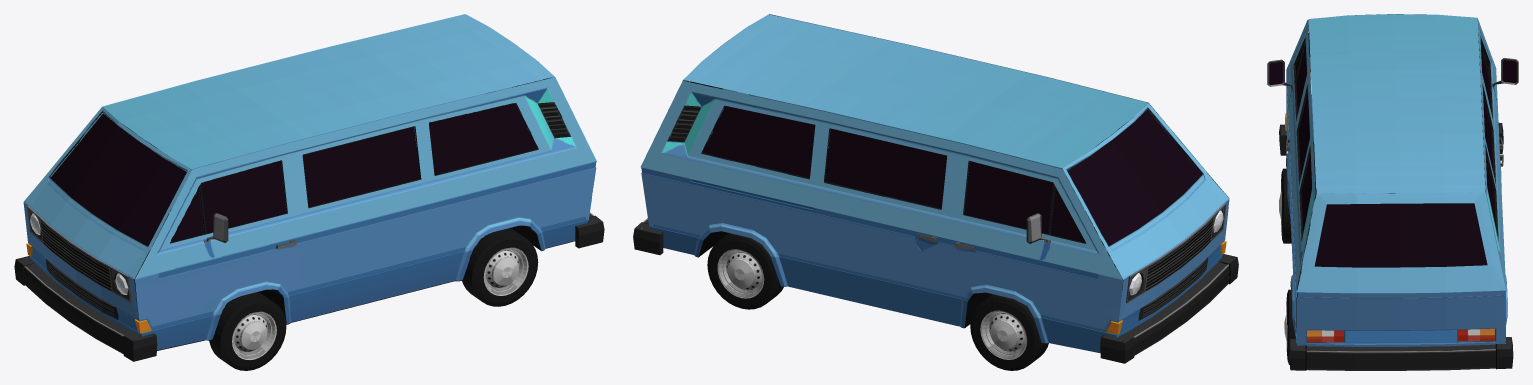
The model's file is Carro1.fbx.
3 renders of one model, left to right at view 1: azimuth 30°, elevation 25°; view 2: azimuth 150°, elevation 25°; view 3: azimuth 270°, elevation 25°, orthographic. The views are drawn at different scales.
Visible parts, largest first — view 1: Cube.014; view 2: Cube.014; view 3: Cube.014.
Part boxes in pixels (box(x1,y1,x2,y2)): Cube.014: box(14, 14, 604, 370); Cube.014: box(633, 14, 1238, 370); Cube.014: box(1267, 14, 1518, 370).
Size of the model in its own units: 972 by 396 by 448.
1 material, 1 textured.
